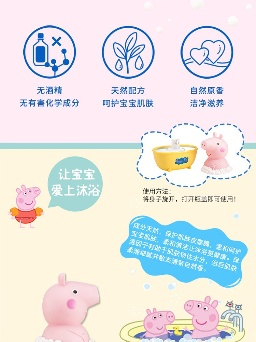Peppa: (8, 184, 42, 230)
